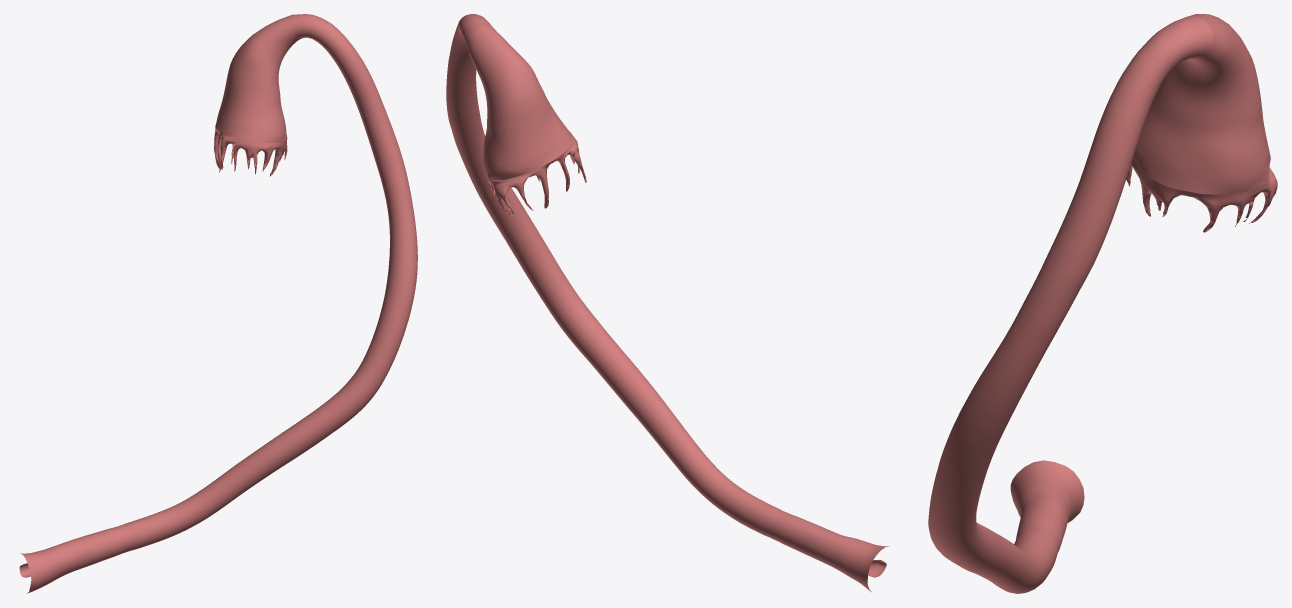
Rendered from vh_f_fallopian_tube_l-100.glb.
The picture shows the model from 3 angles, left to right: view 1: azimuth 30°, elevation 25°; view 2: azimuth 150°, elevation 25°; view 3: azimuth 270°, elevation 25°; orthographic projection. The views are drawn at different scales.
Parts seen in each view (by area): view 1: VH_F_ampulla_of_uterine_tube_L, VH_F_uterine_tube_infundibulum_L, VH_F_isthmus_of_fallopian_tube_L, VH_F_fibria_of_uterine_tube_L; view 2: VH_F_ampulla_of_uterine_tube_L, VH_F_uterine_tube_infundibulum_L, VH_F_isthmus_of_fallopian_tube_L, VH_F_fibria_of_uterine_tube_L; view 3: VH_F_ampulla_of_uterine_tube_L, VH_F_uterine_tube_infundibulum_L, VH_F_isthmus_of_fallopian_tube_L, VH_F_fibria_of_uterine_tube_L.
Boxes of the visible parts, left/top/right/bottom form: VH_F_ampulla_of_uterine_tube_L: left=118, top=14, right=417, bottom=551; VH_F_uterine_tube_infundibulum_L: left=215, top=15, right=299, bottom=142; VH_F_isthmus_of_fallopian_tube_L: left=19, top=526, right=127, bottom=593; VH_F_fibria_of_uterine_tube_L: left=214, top=127, right=287, bottom=176; VH_F_ampulla_of_uterine_tube_L: left=446, top=14, right=785, bottom=539; VH_F_uterine_tube_infundibulum_L: left=465, top=26, right=574, bottom=180; VH_F_isthmus_of_fallopian_tube_L: left=771, top=512, right=889, bottom=592; VH_F_fibria_of_uterine_tube_L: left=486, top=137, right=586, bottom=216; VH_F_ampulla_of_uterine_tube_L: left=928, top=16, right=1213, bottom=593; VH_F_uterine_tube_infundibulum_L: left=1133, top=14, right=1270, bottom=194; VH_F_isthmus_of_fallopian_tube_L: left=1010, top=460, right=1084, bottom=551; VH_F_fibria_of_uterine_tube_L: left=1126, top=158, right=1277, bottom=232.
Size of the model in its own units: 0.0386 by 0.0445 by 0.0185.
